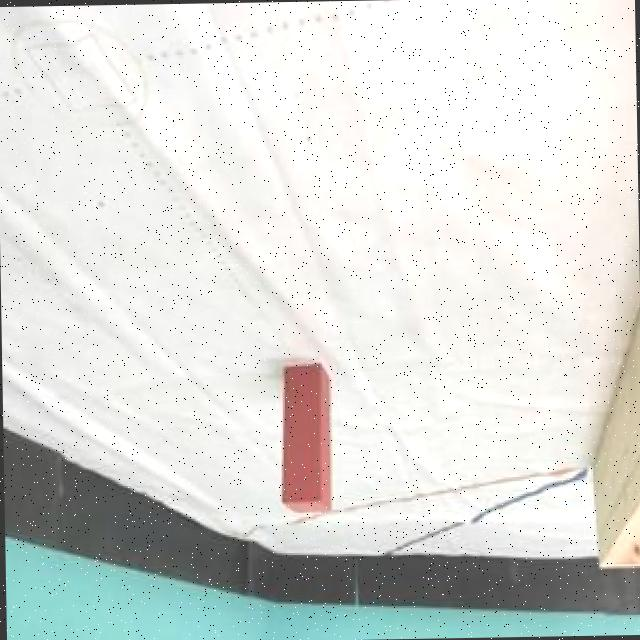redbox: (276, 364, 334, 512)
